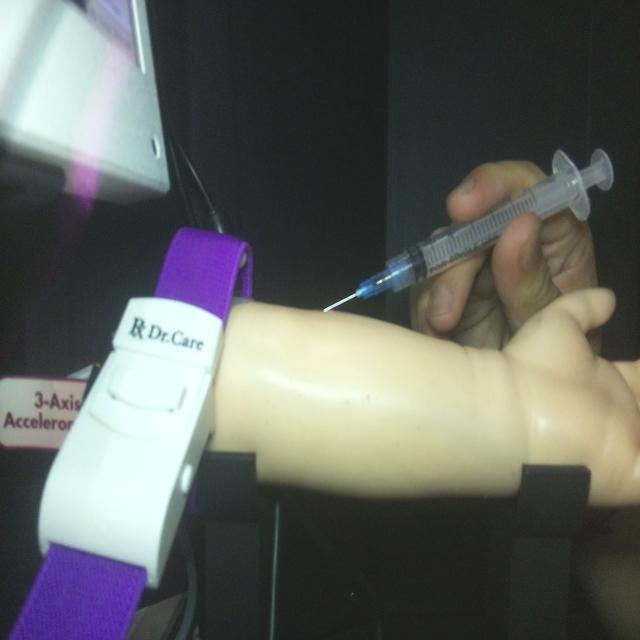18 degrees: (321, 144, 615, 314)
